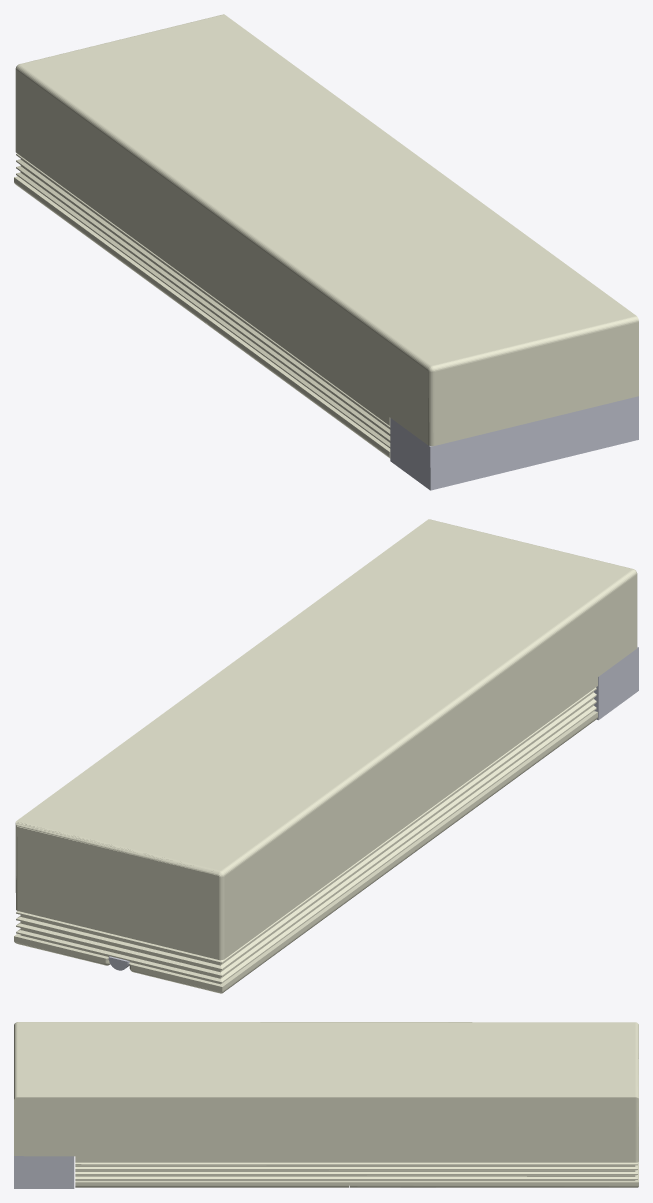
Rendered from aircon.dae.
3 views of the same model, one above another, from view 1: azimuth 30°, elevation 25°; view 2: azimuth 150°, elevation 25°; view 3: azimuth 270°, elevation 25° (orthographic). The views are drawn at different scales.
Parts seen in each view (by area): view 1: ShapeIndexedFaceSet, ShapeIndexedFaceSet_004; view 2: ShapeIndexedFaceSet, ShapeIndexedFaceSet_004; view 3: ShapeIndexedFaceSet, ShapeIndexedFaceSet_004.
Part boxes in pixels (<box>): ShapeIndexedFaceSet: <box>14,14,638,458</box>; ShapeIndexedFaceSet_004: <box>390,396,638,490</box>; ShapeIndexedFaceSet: <box>14,519,637,993</box>; ShapeIndexedFaceSet_004: <box>594,647,638,720</box>; ShapeIndexedFaceSet: <box>14,1022,638,1187</box>; ShapeIndexedFaceSet_004: <box>14,1156,74,1188</box>.
Size of the model in its own units: 0.5 by 1.73 by 0.2803.
